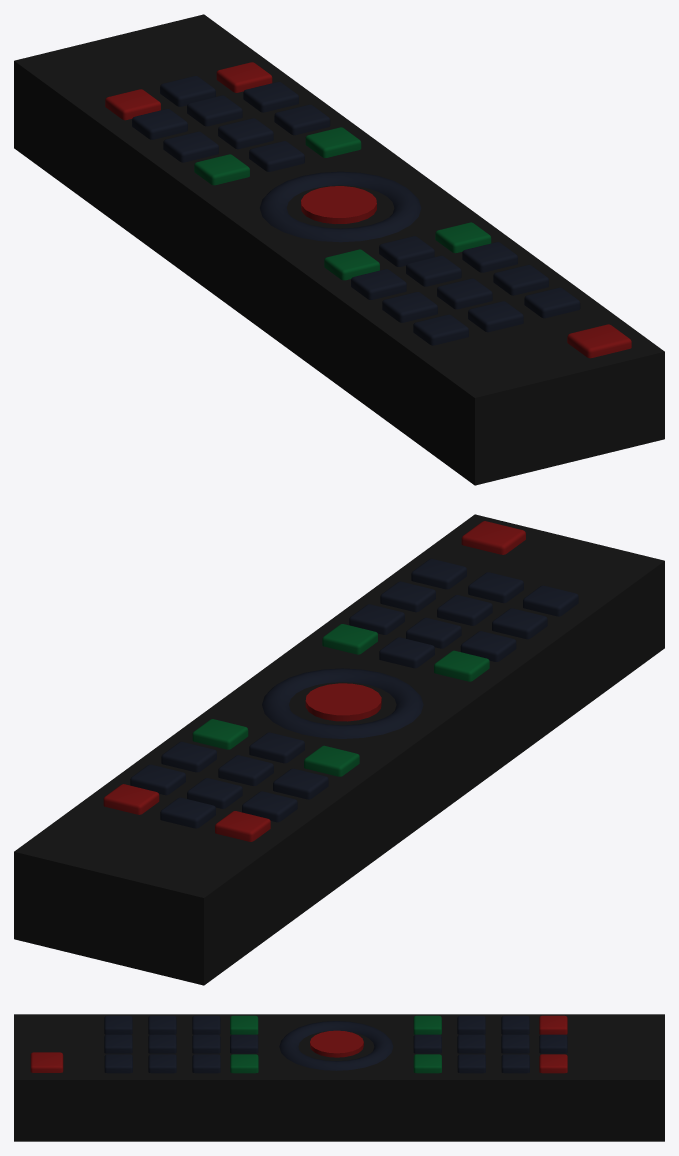
The model's file is télécomande.fbx.
The picture shows the model from 3 angles, top to bottom: view 1: azimuth 30°, elevation 25°; view 2: azimuth 150°, elevation 25°; view 3: azimuth 270°, elevation 25°; orthographic projection. The views are drawn at different scales.
Visible parts, largest first — view 1: telecommande, Torus001, Cylinder001, on/off, bouton005, bouton020, bouton002, bouton017, bouton014, bouton015, bouton018, bouton003 (+16 smaller); view 2: telecommande, Torus001, Cylinder001, on/off, bouton011, bouton014, bouton022, bouton005, bouton010, bouton015, bouton023, bouton002 (+16 smaller); view 3: telecommande, Torus001, Cylinder001, on/off, bouton010, bouton014, bouton002, bouton005, bouton008, bouton011, bouton017, bouton020 (+16 smaller).
Boxes of the visible parts, x1=… form: telecommande: x1=14, y1=14, x2=664, y2=485; Torus001: x1=260, y1=171, x2=421, y2=242; Cylinder001: x1=301, y1=186, x2=376, y2=224; on/off: x1=567, y1=324, x2=631, y2=358; bouton005: x1=437, y1=278, x2=492, y2=309; bouton020: x1=187, y1=95, x2=242, y2=126; bouton002: x1=468, y1=301, x2=523, y2=332; bouton017: x1=218, y1=118, x2=273, y2=149; bouton014: x1=249, y1=141, x2=304, y2=171; bouton015: x1=194, y1=154, x2=249, y2=185; bouton018: x1=163, y1=131, x2=218, y2=162; bouton003: x1=413, y1=314, x2=468, y2=345; telecommande: x1=14, y1=514, x2=664, y2=985; Torus001: x1=262, y1=668, x2=423, y2=738; Cylinder001: x1=305, y1=683, x2=381, y2=721; on/off: x1=461, y1=521, x2=525, y2=554; bouton011: x1=434, y1=650, x2=489, y2=681; bouton014: x1=249, y1=732, x2=304, y2=763; bouton022: x1=160, y1=797, x2=215, y2=828; bouton005: x1=437, y1=595, x2=492, y2=625; bouton010: x1=379, y1=637, x2=434, y2=668; bouton015: x1=304, y1=745, x2=359, y2=776; bouton023: x1=215, y1=811, x2=270, y2=841; bouton002: x1=468, y1=572, x2=523, y2=603; telecommande: x1=14, y1=1014, x2=664, y2=1141; Torus001: x1=279, y1=1021, x2=393, y2=1070; Cylinder001: x1=310, y1=1030, x2=363, y2=1057; on/off: x1=30, y1=1052, x2=63, y2=1072; bouton010: x1=230, y1=1034, x2=258, y2=1053; bouton014: x1=413, y1=1034, x2=441, y2=1053; bouton002: x1=104, y1=1034, x2=132, y2=1053; bouton005: x1=148, y1=1034, x2=176, y2=1053; bouton008: x1=192, y1=1034, x2=220, y2=1053; bouton011: x1=230, y1=1015, x2=258, y2=1034; bouton017: x1=457, y1=1034, x2=485, y2=1053; bouton020: x1=501, y1=1034, x2=529, y2=1053.
Bounding box in the file's own units: 5 × 2.43 × 21.
